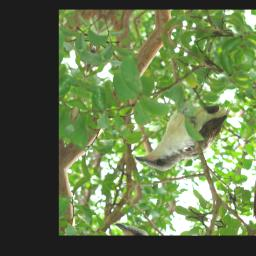Cuckoo: (134, 81, 233, 189)
